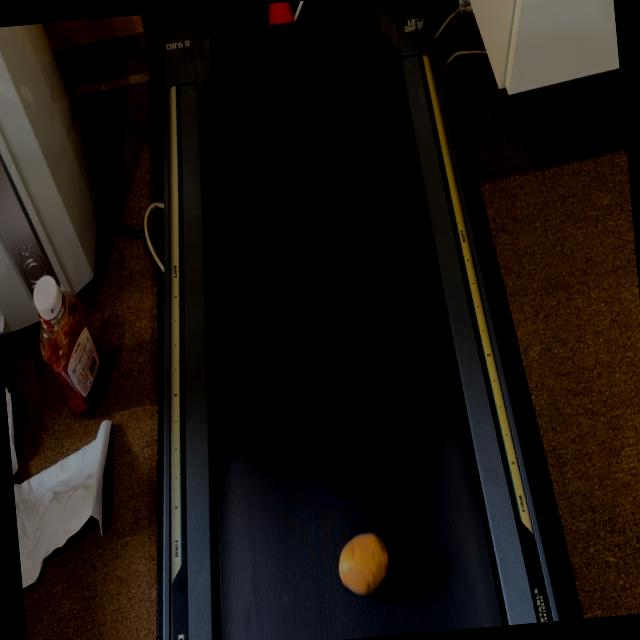Recycle: (262, 1, 295, 24)
Trash: (336, 530, 392, 598)
